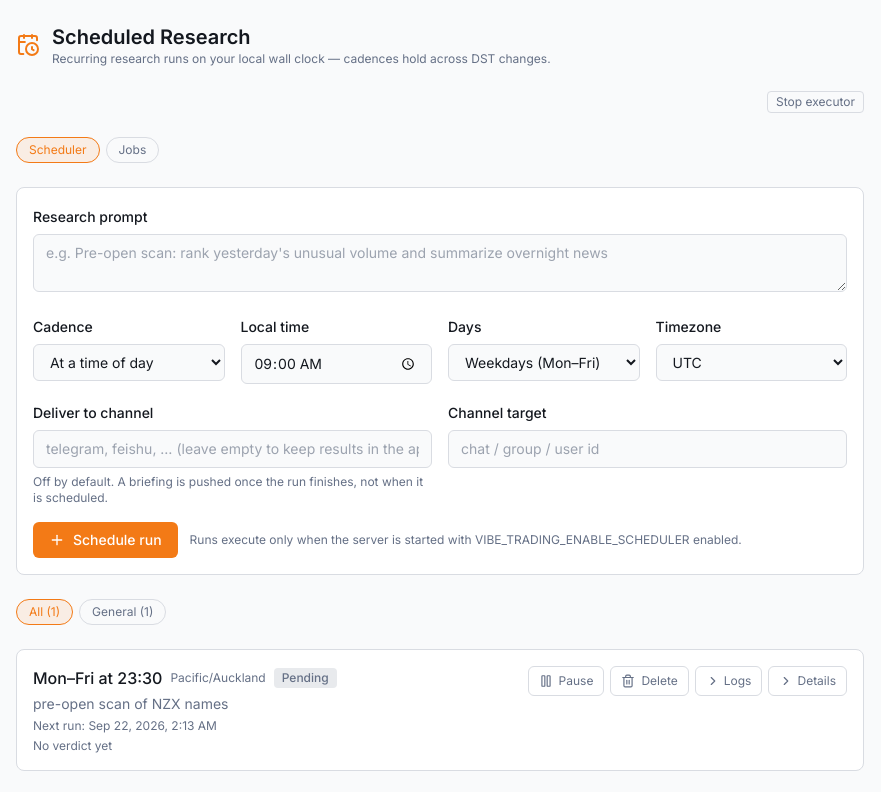
Test: job details panel › clicking Details fetches and renders the description and preview items
Click the button with aria-label "Toggle details" at (808, 681), box [768,666,847,696]
(page scrolled)
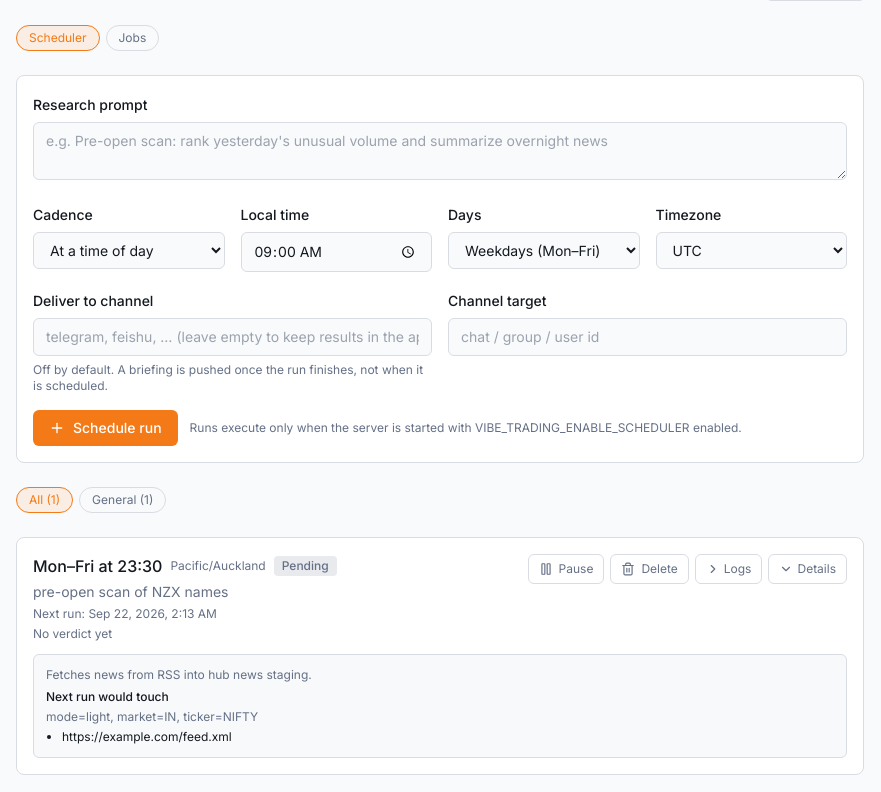
Result: the text "Fetches news from RSS into hub news staging." is shown at [46,667,312,682]
Result: the list item "https://example.com/feed.xml" is shown at [62,729,232,744]
